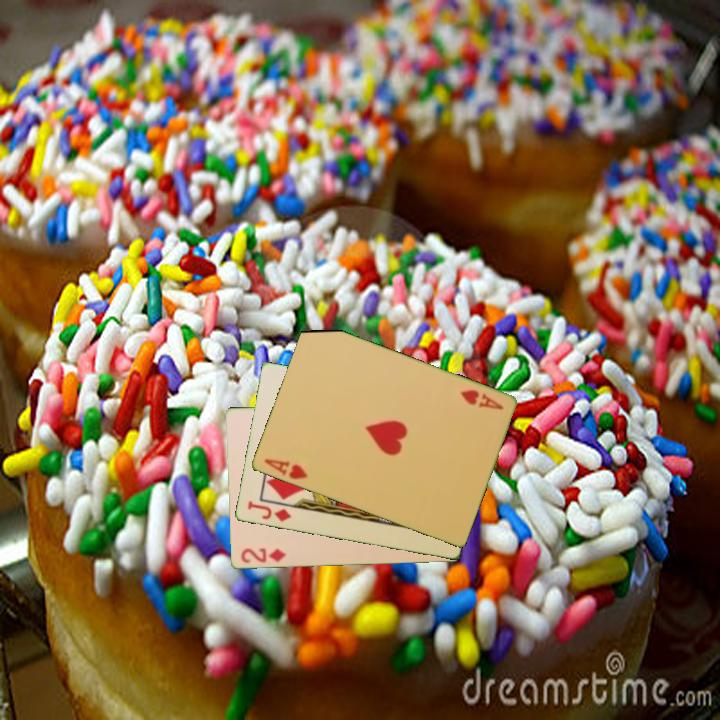2d: (238, 545, 289, 566)
Ah: (260, 455, 311, 483), (456, 386, 506, 413)
Jd: (244, 498, 294, 525)
